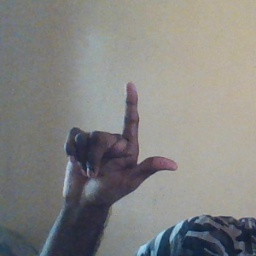L: (61, 82, 181, 203)
